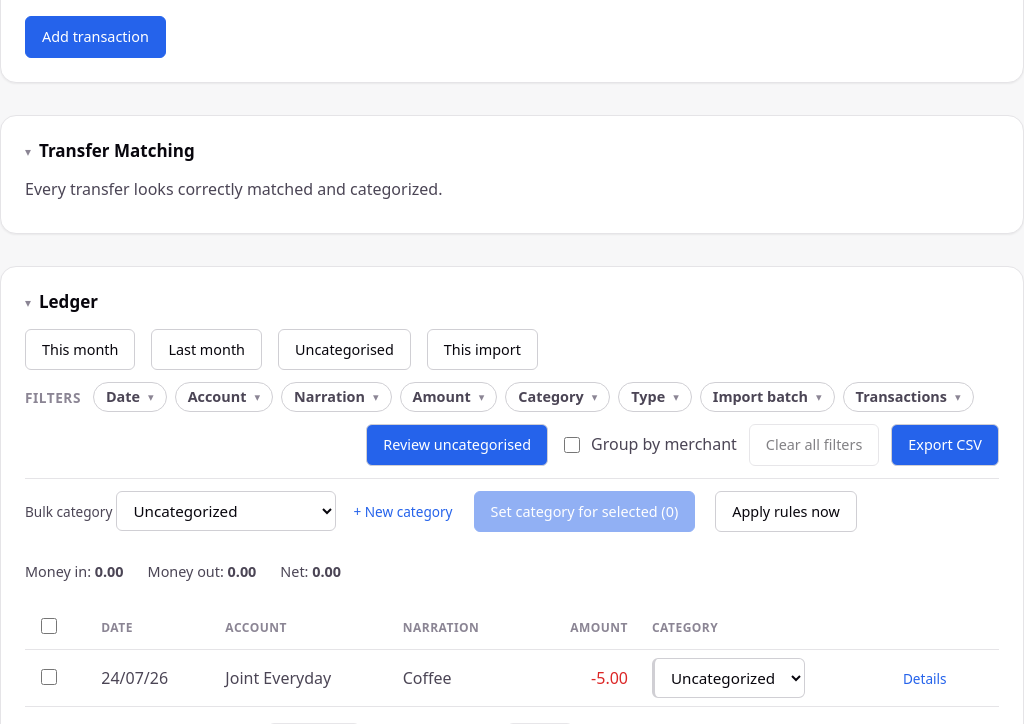
TransactionsPage › the Uncategorised preset applies the same filter the Category chip's own option does
This screenshot has width=1024, height=724.
(page scrolled)
Expected: the text "Coffee" is shown, [391,650,528,707]
Click the button "Uncategorised" at (344, 350), box [278,329,411,370]
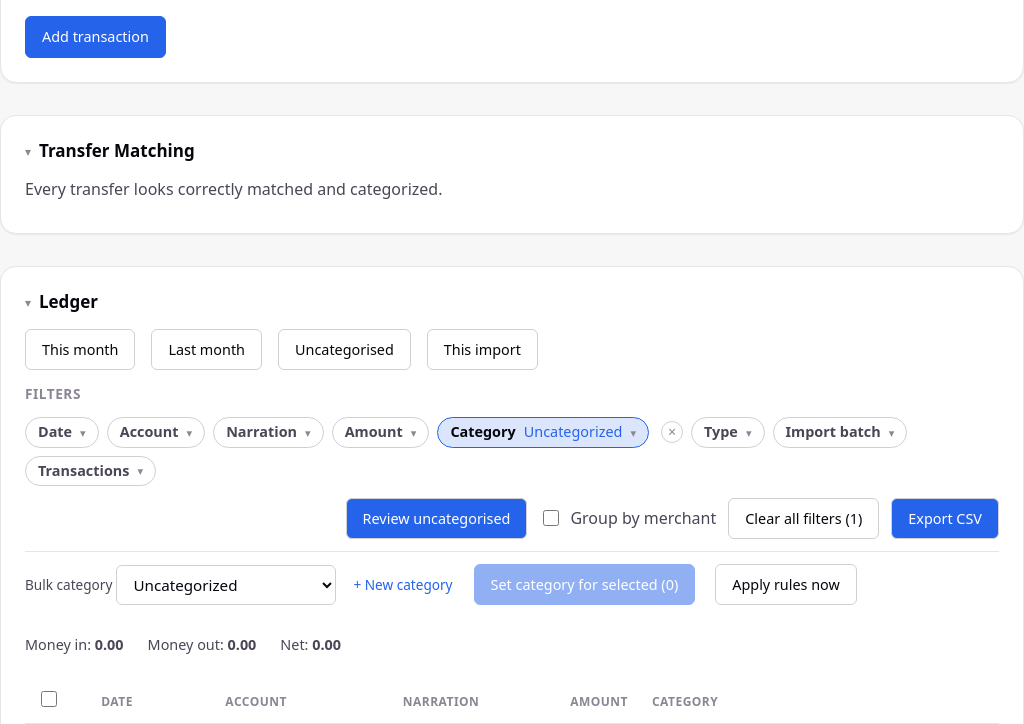
Now the button with aria-label "Filter by Category" shows "Uncategorized", box [437,417,649,448]
